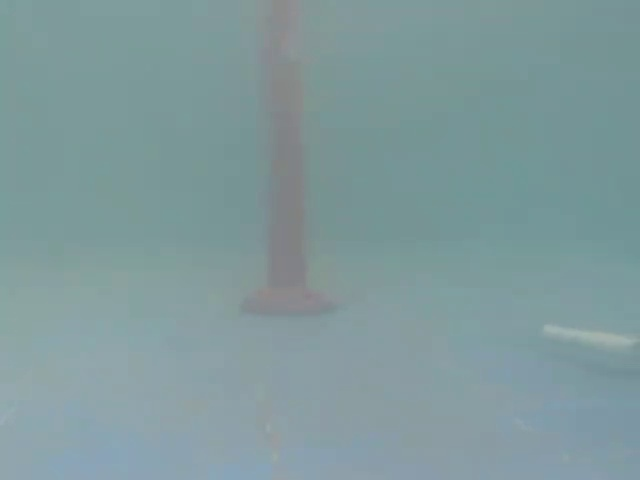flare: (236, 0, 329, 329)
